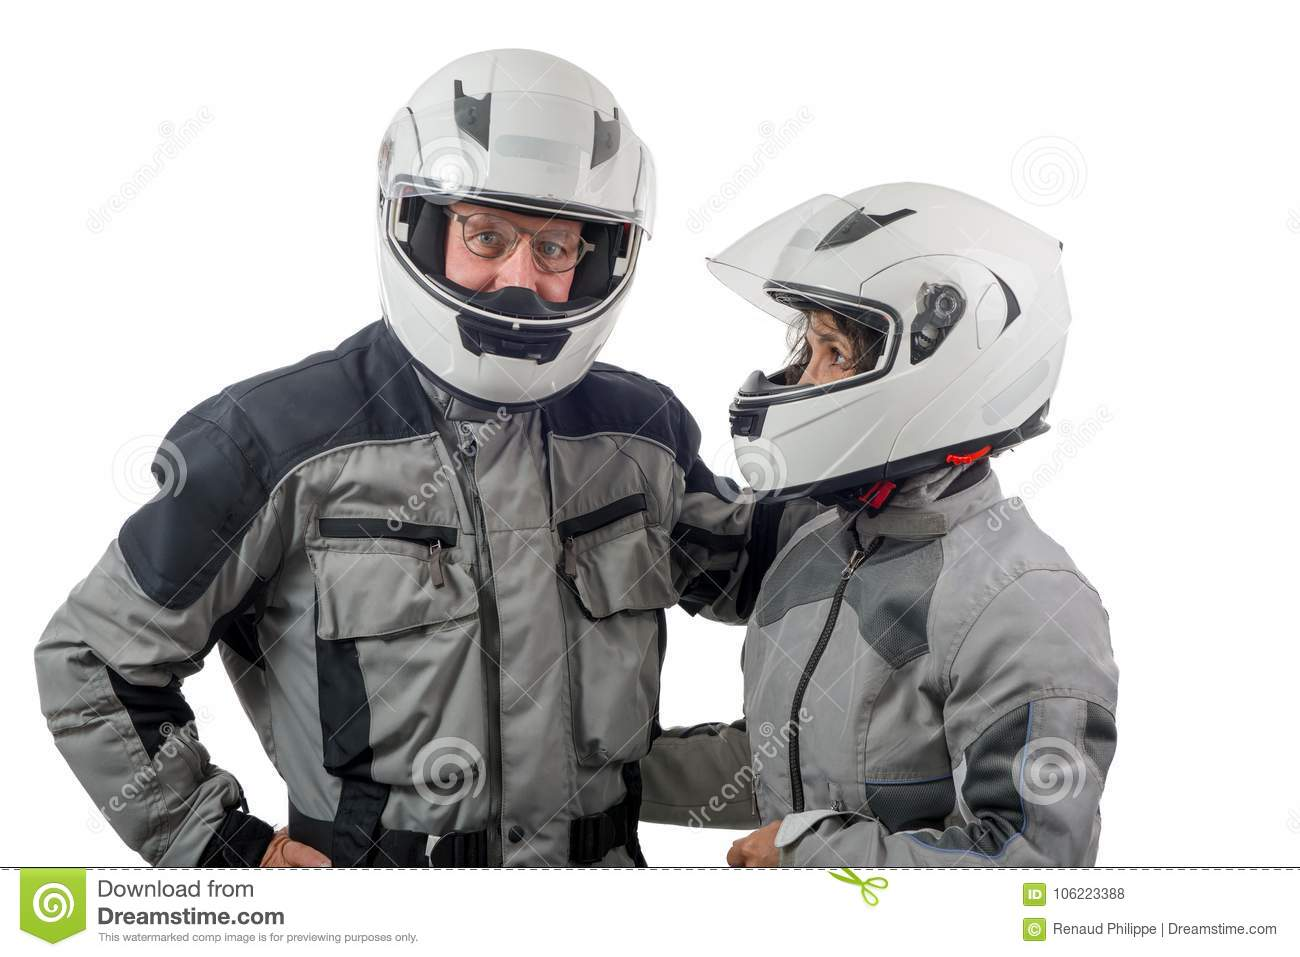helmet: (717, 202, 1076, 454), (376, 66, 652, 385)
